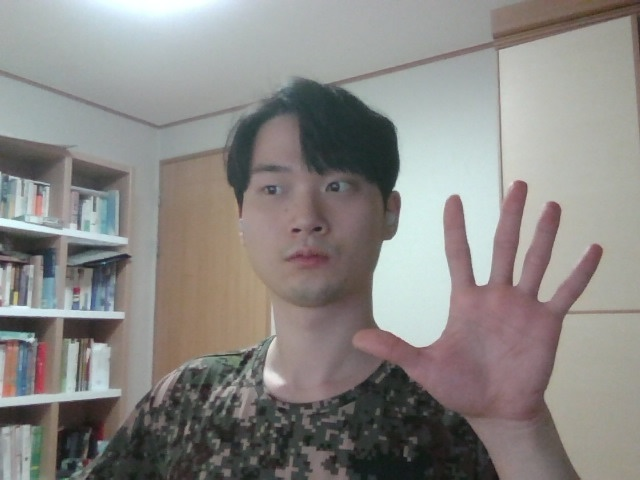hello: (343, 171, 615, 432)
